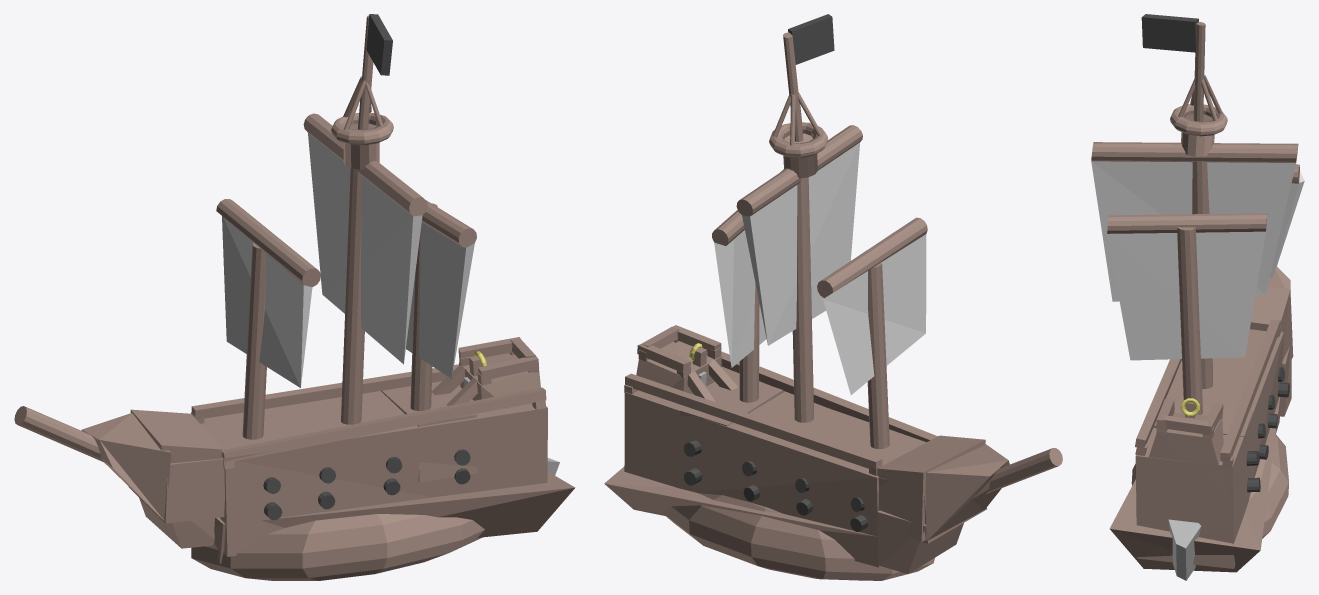
The model's file is pirateShip_animation_v001.fbx.
The picture shows the model from 3 angles, left to right: view 1: azimuth 30°, elevation 25°; view 2: azimuth 150°, elevation 25°; view 3: azimuth 270°, elevation 25°; orthographic projection. The views are drawn at different scales.
Visible parts, largest first — view 1: pirateShip_animation; view 2: pirateShip_animation; view 3: pirateShip_animation.
Boxes of the visible parts, x1,y1,x2,y2 form: pirateShip_animation: (14,14,575,580); pirateShip_animation: (604,14,1062,580); pirateShip_animation: (1091,14,1304,580).
Size of the model in its own units: 1.09 by 1.16 by 0.4409.
